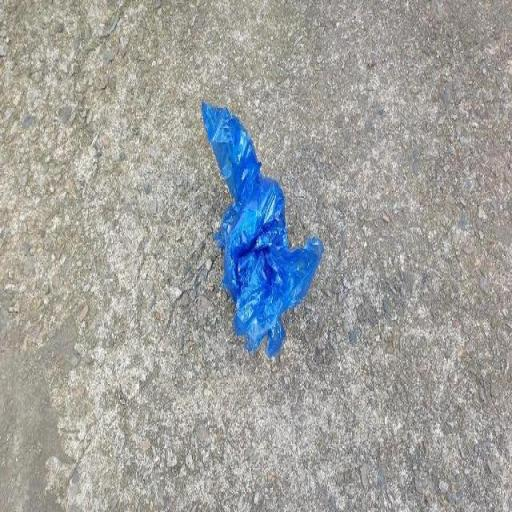plastic-bag: (200, 96, 322, 362)
